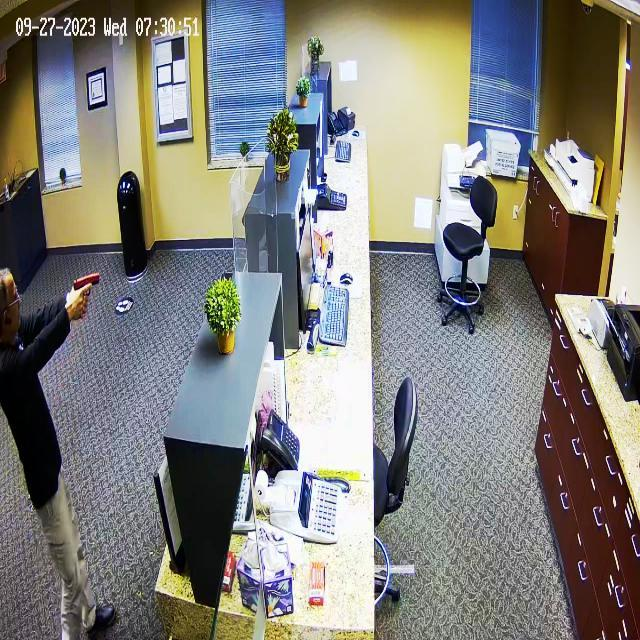Gun: (66, 259, 102, 312)
